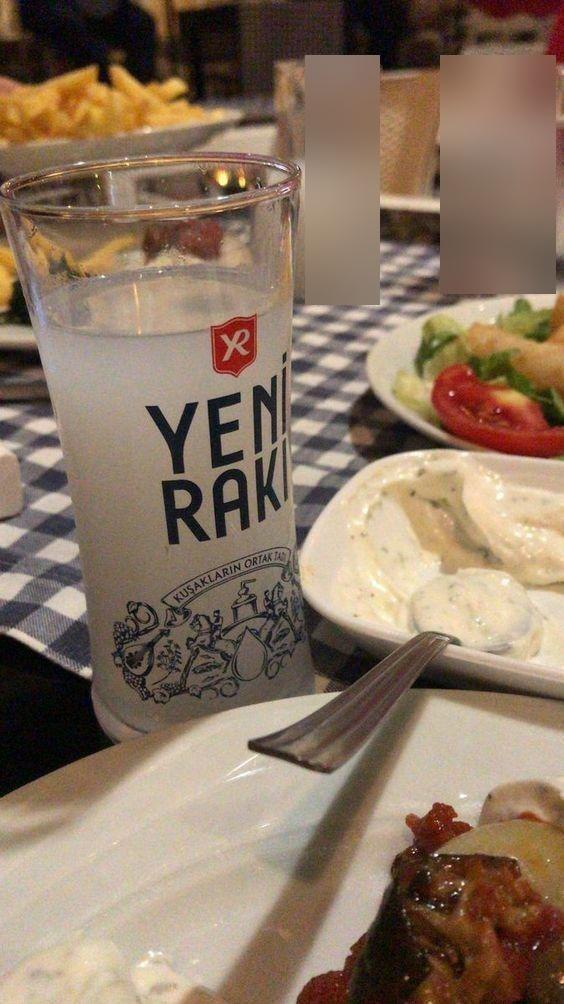glass-normal: (1, 147, 315, 745)
